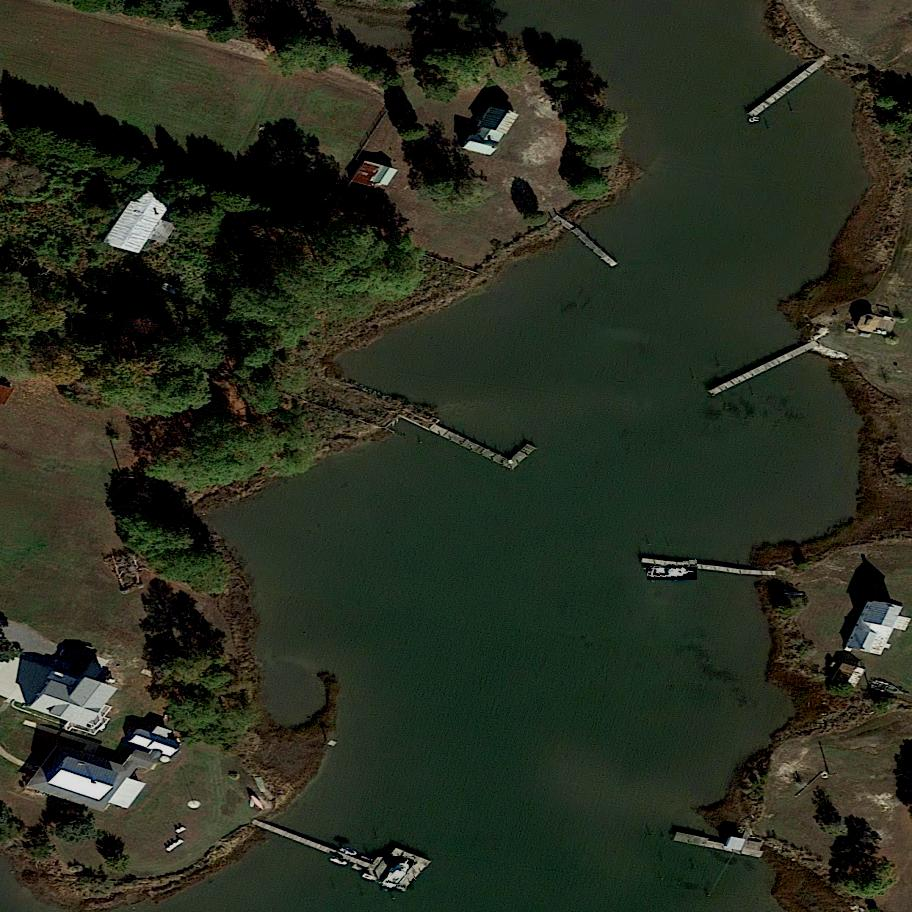ship: (380, 854, 415, 895), (647, 567, 696, 580)
